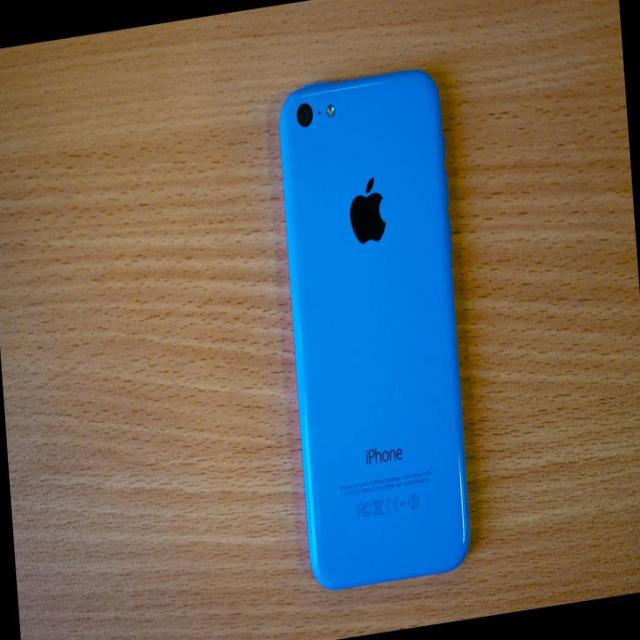handphone: (282, 71, 473, 588)
